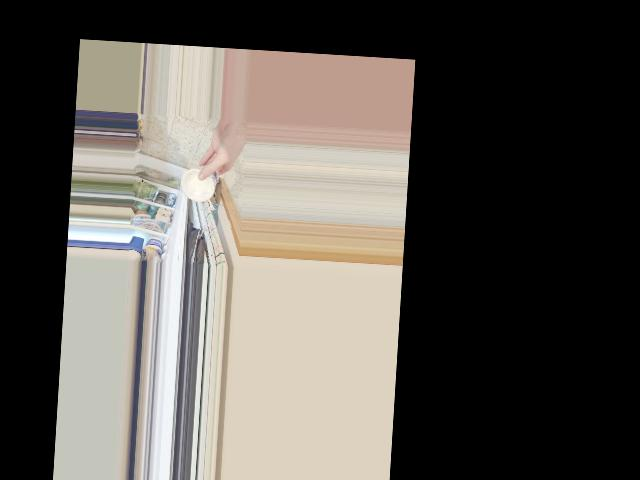cotage: (179, 160, 224, 204)
